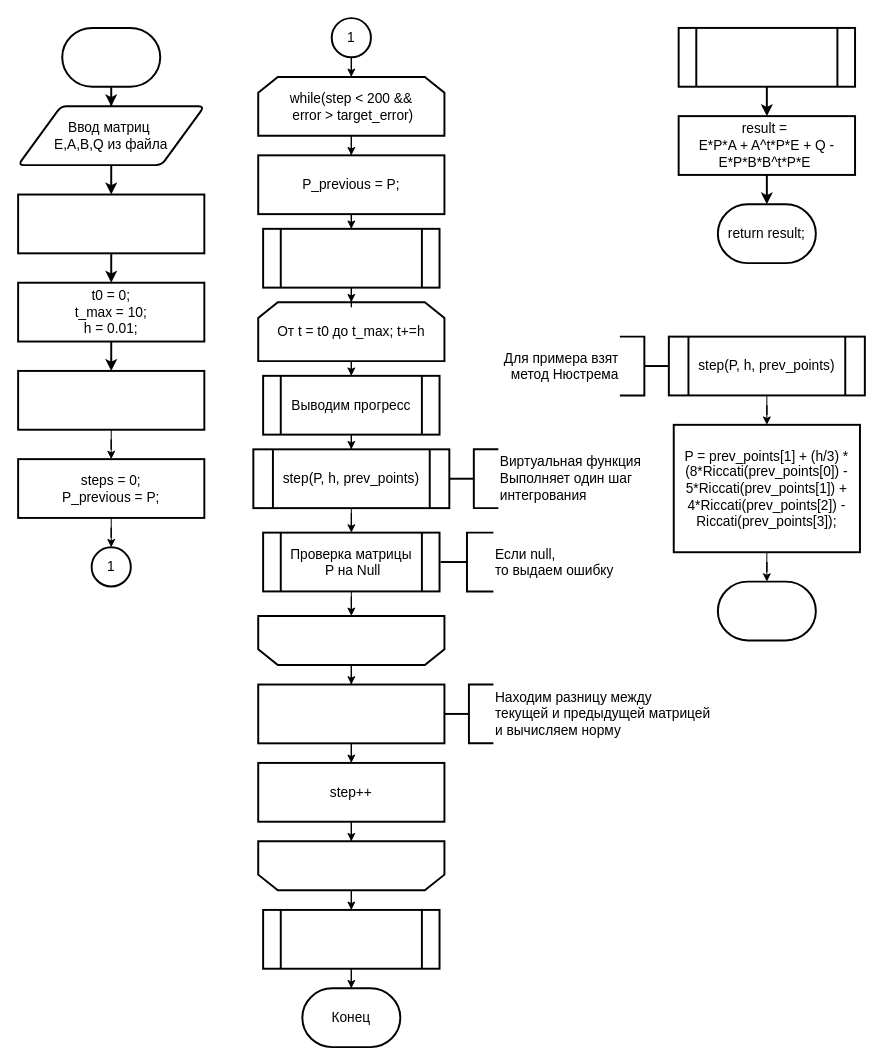
Image size: 882x1064. Some labels were removed from this diagram. The centre of each missing label's shape, as x and y in pixels:
"error = (P - P_previous).norm()" goes at (351,713).
"return P;" goes at (766,610).
"Riccati(P)" goes at (766,56).
"target_error = 0.001; error = MAX_DOUBLE;" goes at (111,399).
"Конец while" goes at (351,865).
"Конец цикла" goes at (351,639).
"Матрицу P инициализируем нулями" goes at (111,223).
"Находим 4 разгонные точки: deque prev_points" goes at (351,257).
"Начало" goes at (111,56).
"Сохраняем результат" goes at (351,938).
